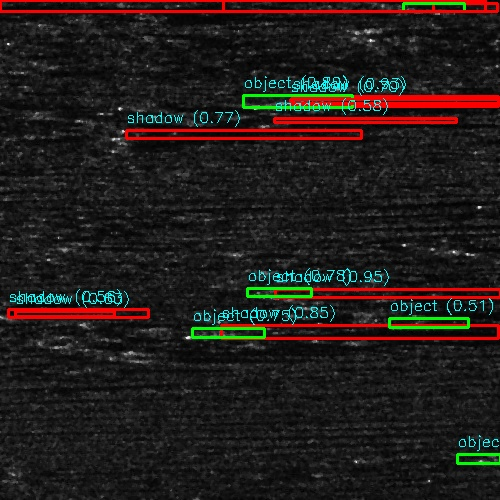rock: (276, 94, 329, 109), (249, 286, 312, 297), (244, 119, 307, 124)
shadow: (303, 94, 500, 109), (281, 286, 500, 297), (276, 119, 348, 124), (0, 169, 73, 172)
